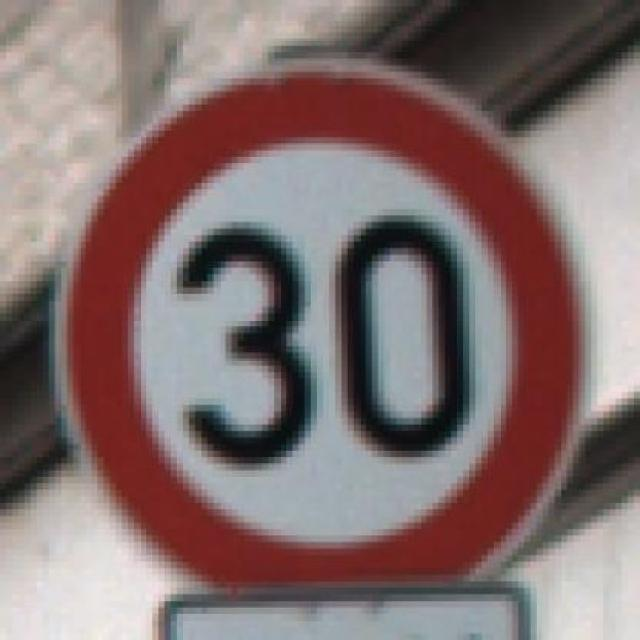Speed Limit 30 KMPh: (30, 39, 598, 613)
